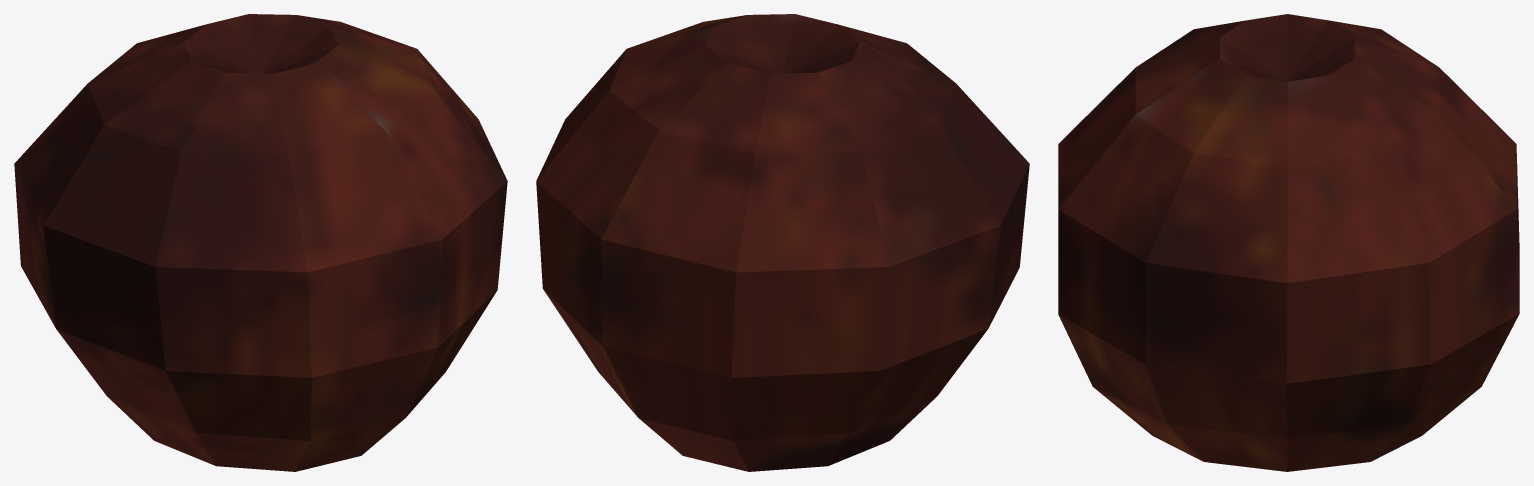
File: spoiledApple.fbx
3 views of the same model, side by side, from view 1: azimuth 30°, elevation 25°; view 2: azimuth 150°, elevation 25°; view 3: azimuth 270°, elevation 25° (orthographic).
Visible parts, largest first — view 1: pSphere8; view 2: pSphere8; view 3: pSphere8.
Part boxes in pixels (left/top/right/bottom): pSphere8: left=14, top=14, right=507, bottom=471; pSphere8: left=536, top=14, right=1029, bottom=471; pSphere8: left=1058, top=14, right=1519, bottom=471.
Size of the model in its own units: 55.86 by 49.38 by 51.15.
